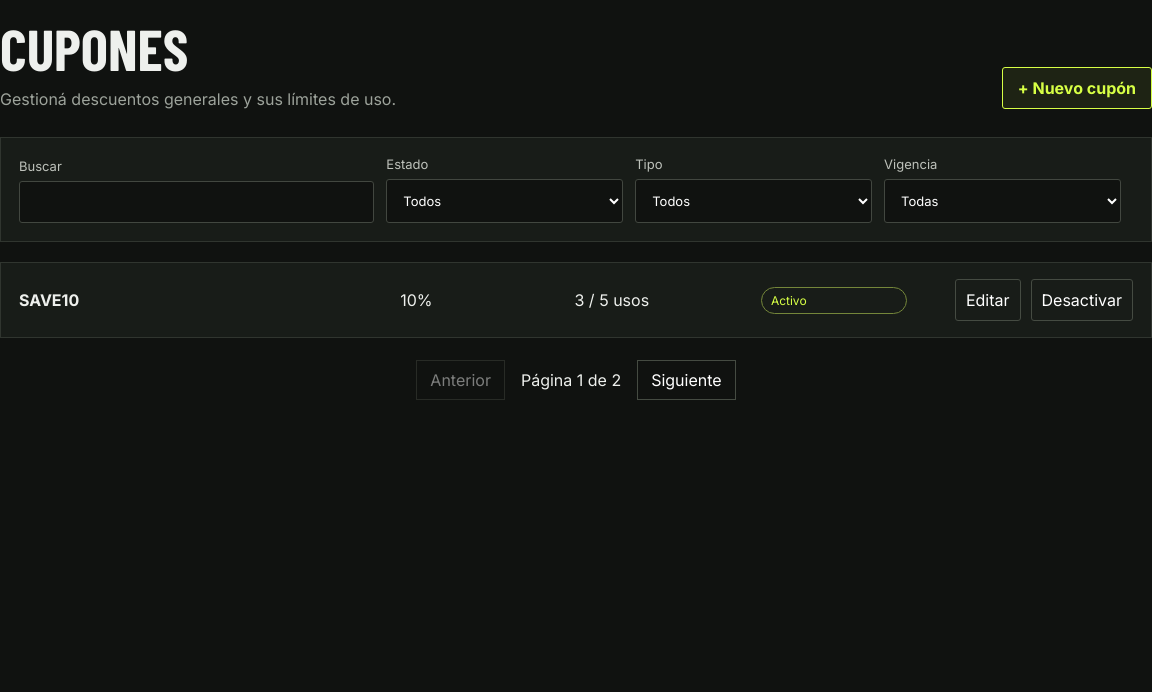
Test: administración de cupones › refresca con filtros vigentes después de un guardado pendiente e ignora la respuesta anterior
Expected: the text "SAVE10" is shown, 19,290 -> 79,310
Click the button "+ Nuevo cupón" at point(1077, 88), box 1002,67 -> 1151,109
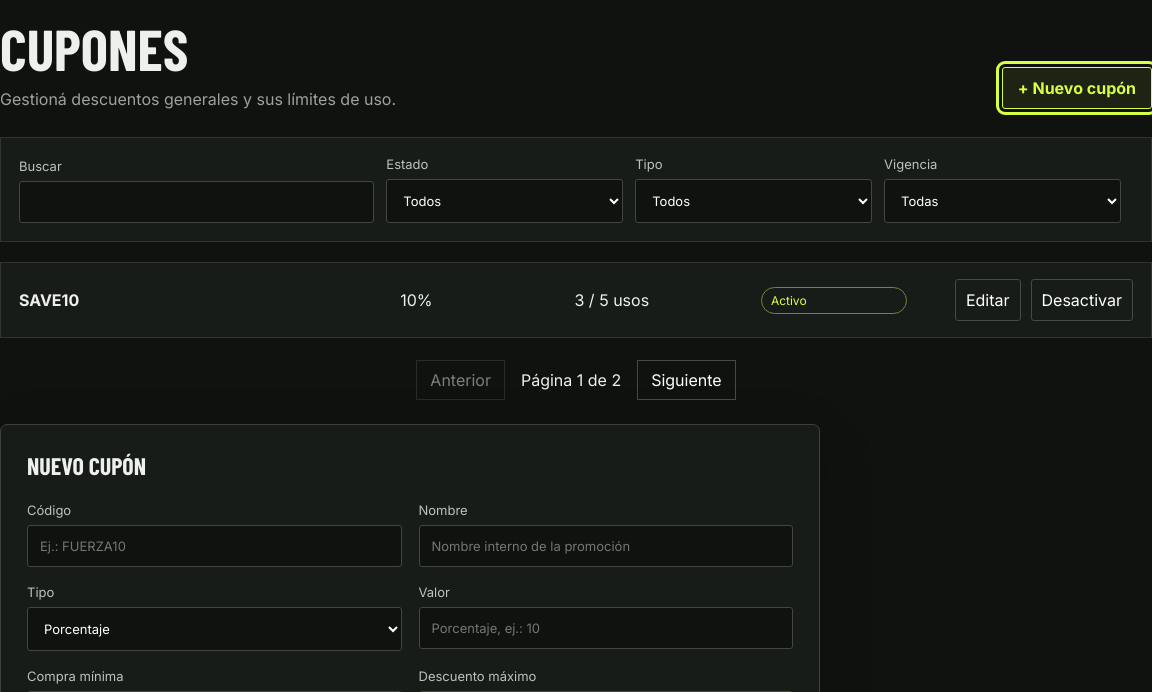
Type "NEW" into the field labelled "Código" at point(214, 546), box 27,525 -> 402,567
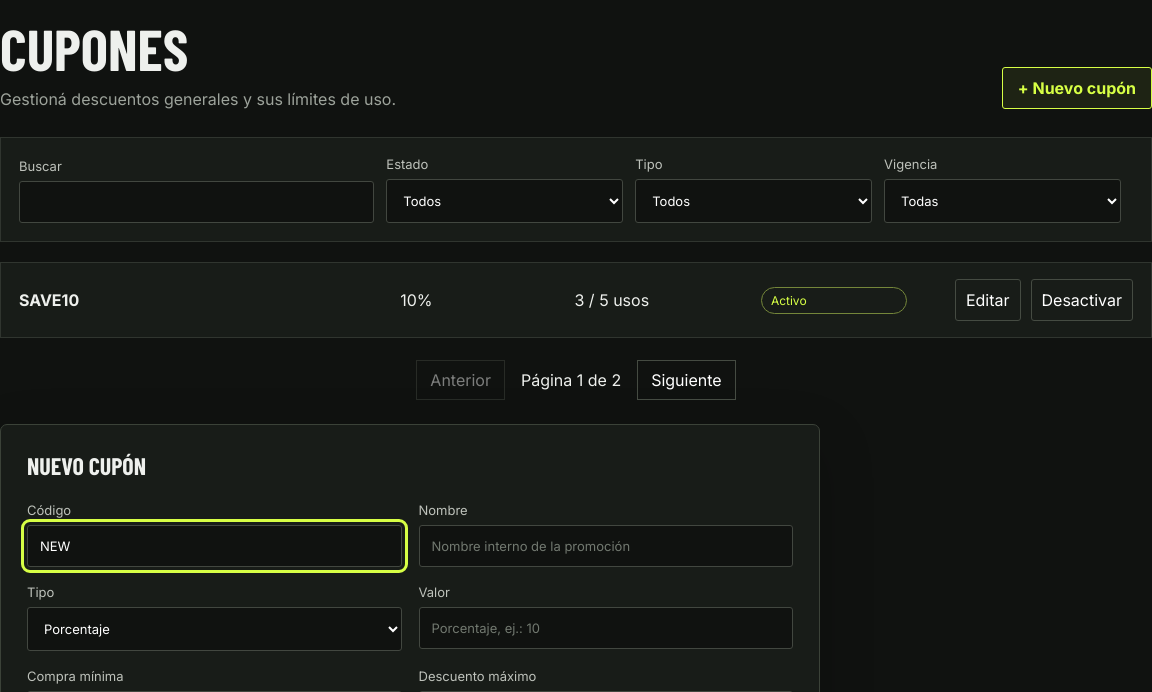
Type "Nuevo" into the field labelled "Nombre" at point(606, 546), box 418,525 -> 793,567
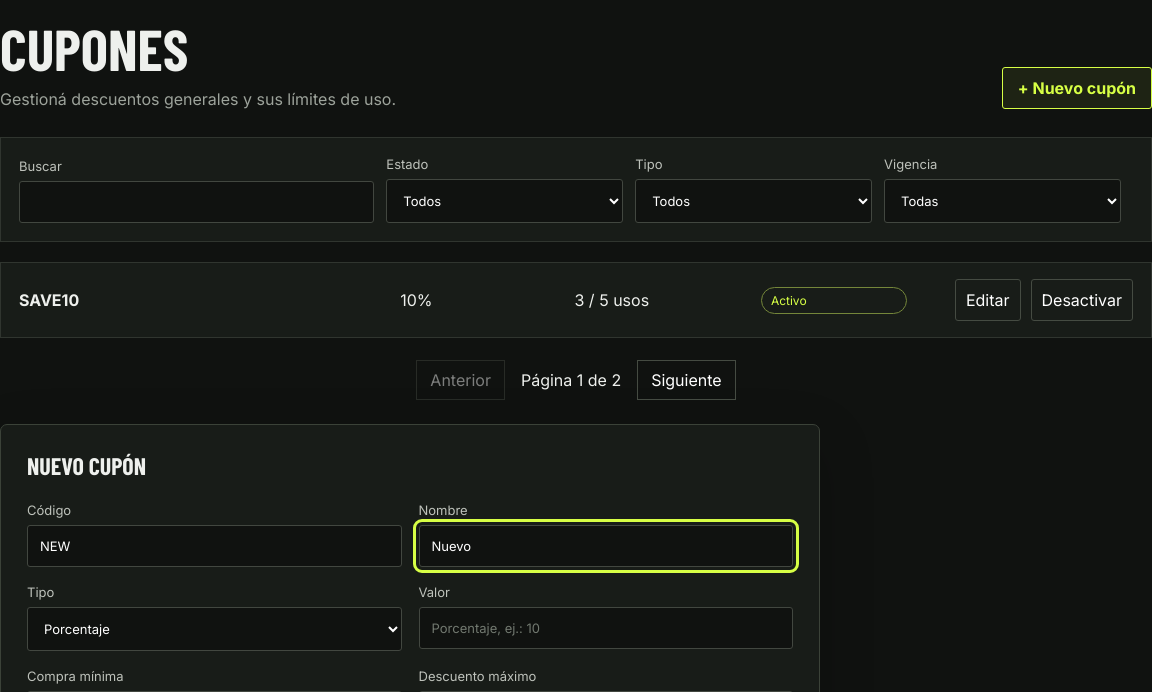
Type "10" into the number field labelled "Valor" at point(606, 628), box 418,607 -> 793,649
(page scrolled)
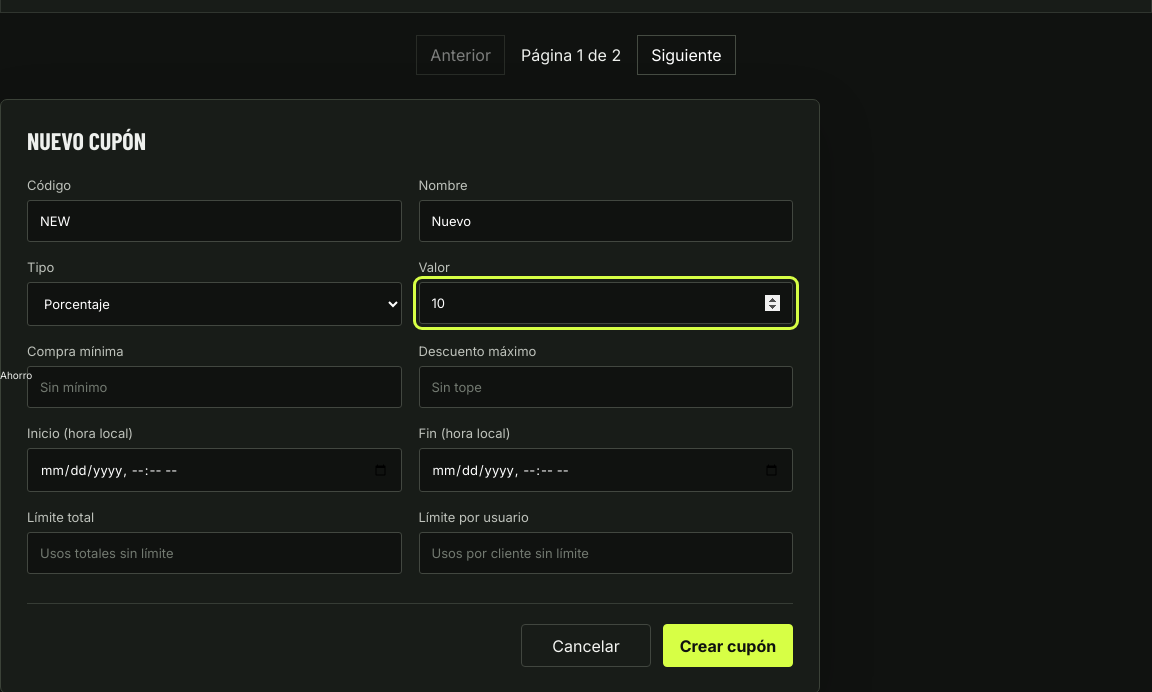
Click the button with aria-label "Guardar" at point(728, 646), box 663,624 -> 793,667
(page scrolled)
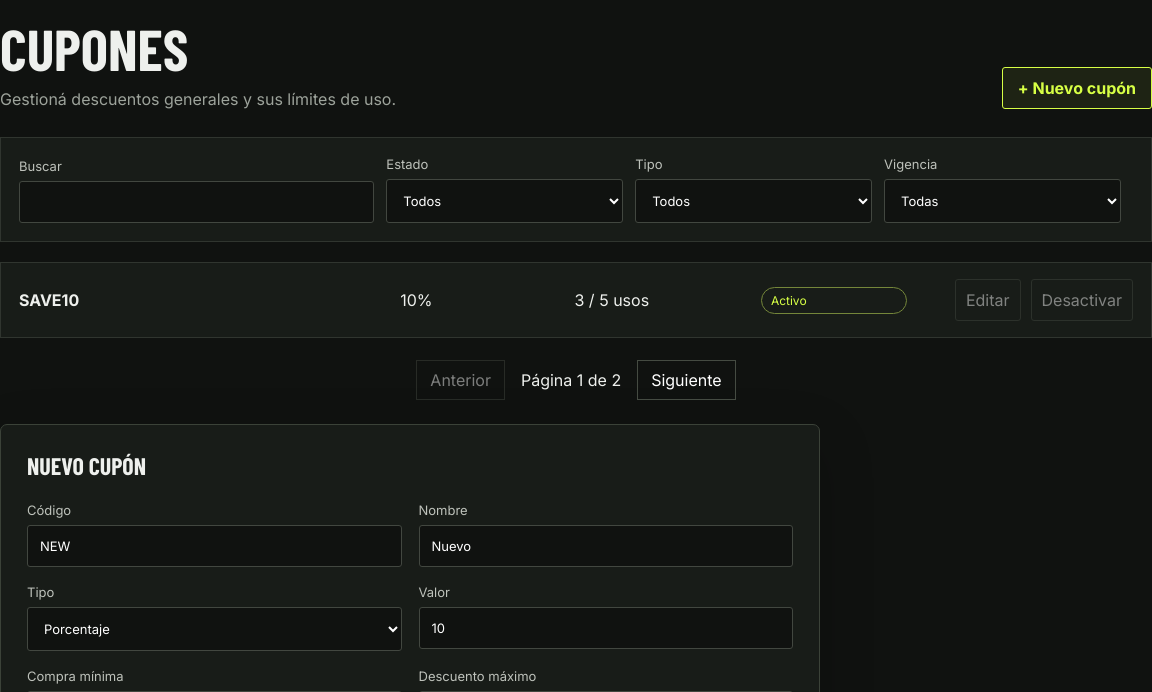
Type "current" into the field labelled "Buscar" at point(197, 202), box 19,181 -> 374,223
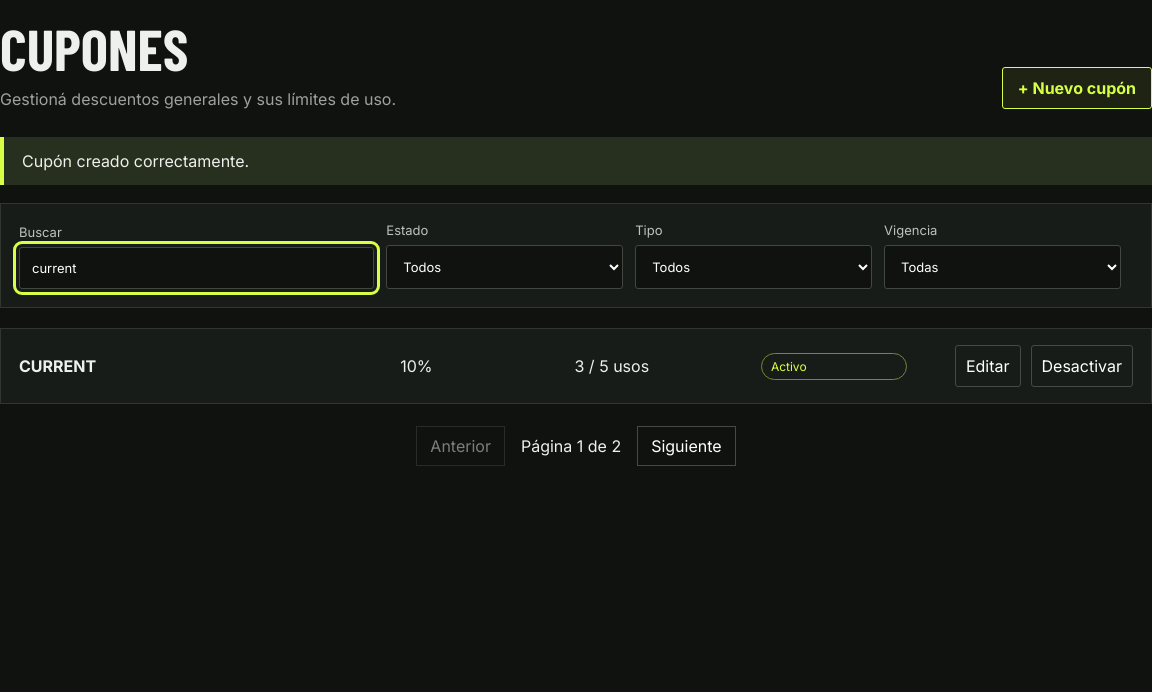
Result: the text "CURRENT" is shown at 19,356 -> 96,376
